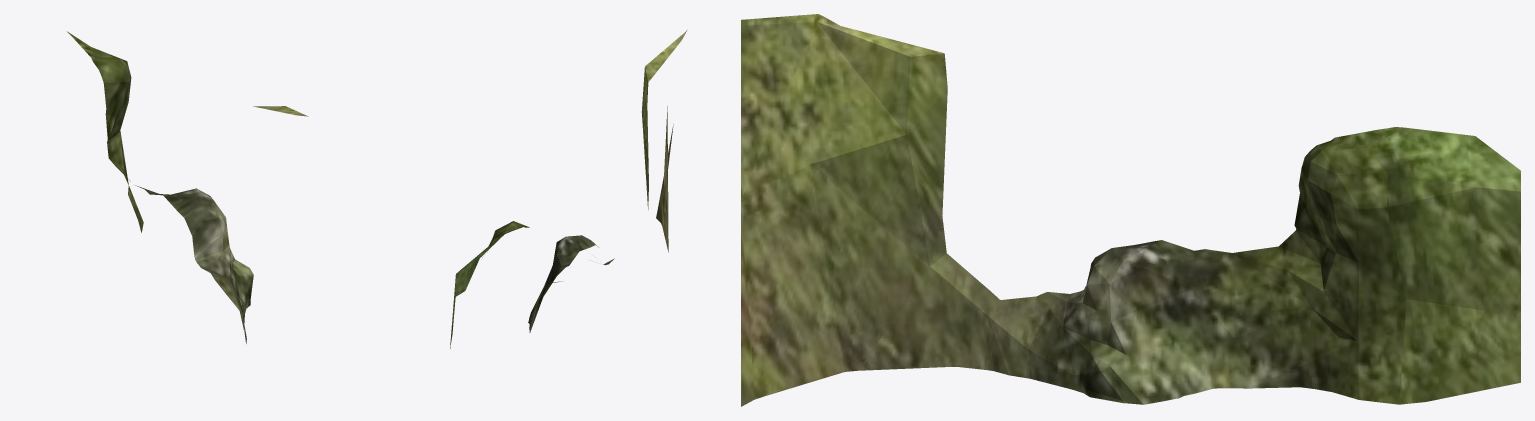
3 renders of one model, left to right at view 1: azimuth 30°, elevation 25°; view 2: azimuth 150°, elevation 25°; view 3: azimuth 270°, elevation 25°, orthographic. The views are drawn at different scales.
Bounding box in the file's own units: 0.784 × 2.91 × 5.9.
Materials: 1 (1 with a texture image).
